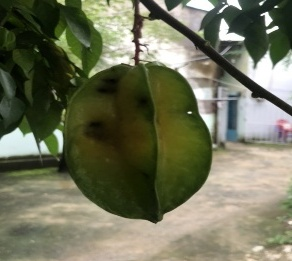Khe: (57, 59, 222, 228)
